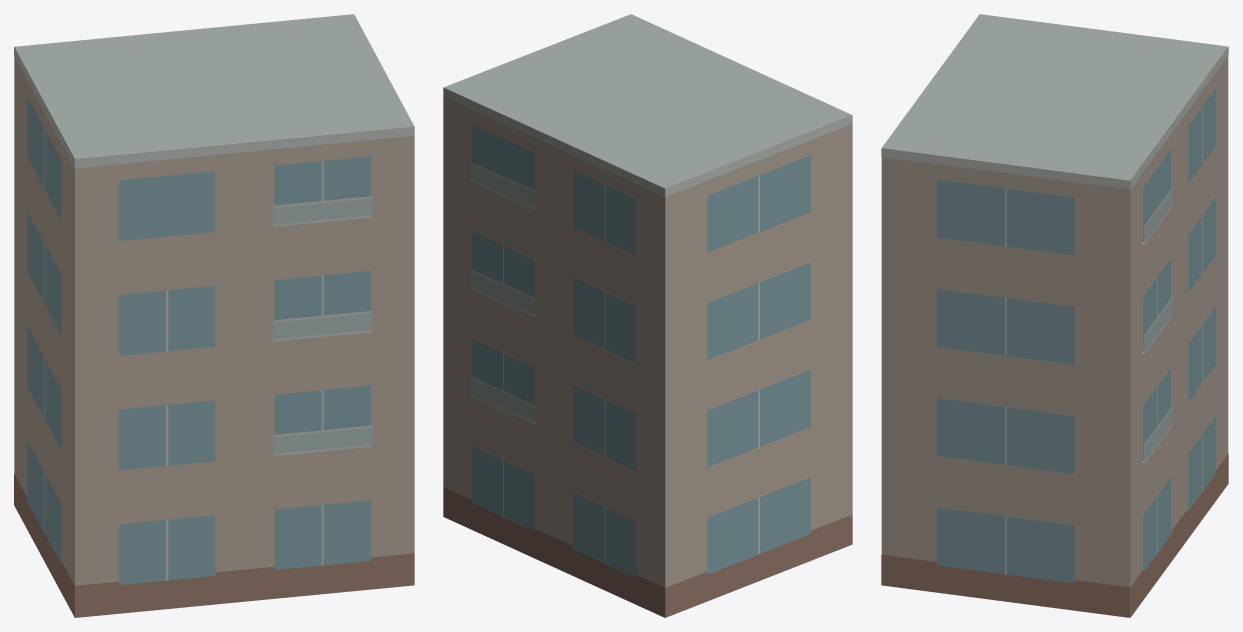
The model's file is residential-d909af1f-b60e-4f22-983b-794127da441f.glb.
3 views of the same model, side by side, from view 1: azimuth 30°, elevation 25°; view 2: azimuth 150°, elevation 25°; view 3: azimuth 270°, elevation 25° (orthographic). The views are drawn at different scales.
Parts seen in each view (by area): view 1: residential-d909af1f-b60e-4f22-983b-794127da441f.tmp; view 2: residential-d909af1f-b60e-4f22-983b-794127da441f.tmp; view 3: residential-d909af1f-b60e-4f22-983b-794127da441f.tmp.
Part boxes in pixels (x1,y1,x2,y2): residential-d909af1f-b60e-4f22-983b-794127da441f.tmp: (14,14,414,617); residential-d909af1f-b60e-4f22-983b-794127da441f.tmp: (443,14,852,617); residential-d909af1f-b60e-4f22-983b-794127da441f.tmp: (881,14,1228,617).
Bounding box in the file's own units: 9.98 × 12.2 × 8.78.
